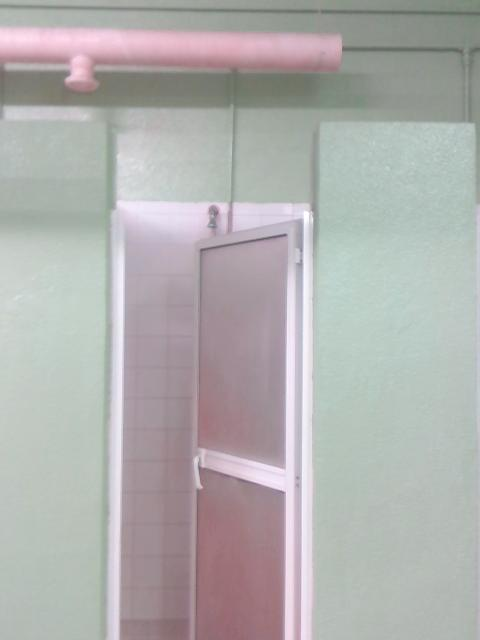semi_door: (103, 203, 313, 639)
